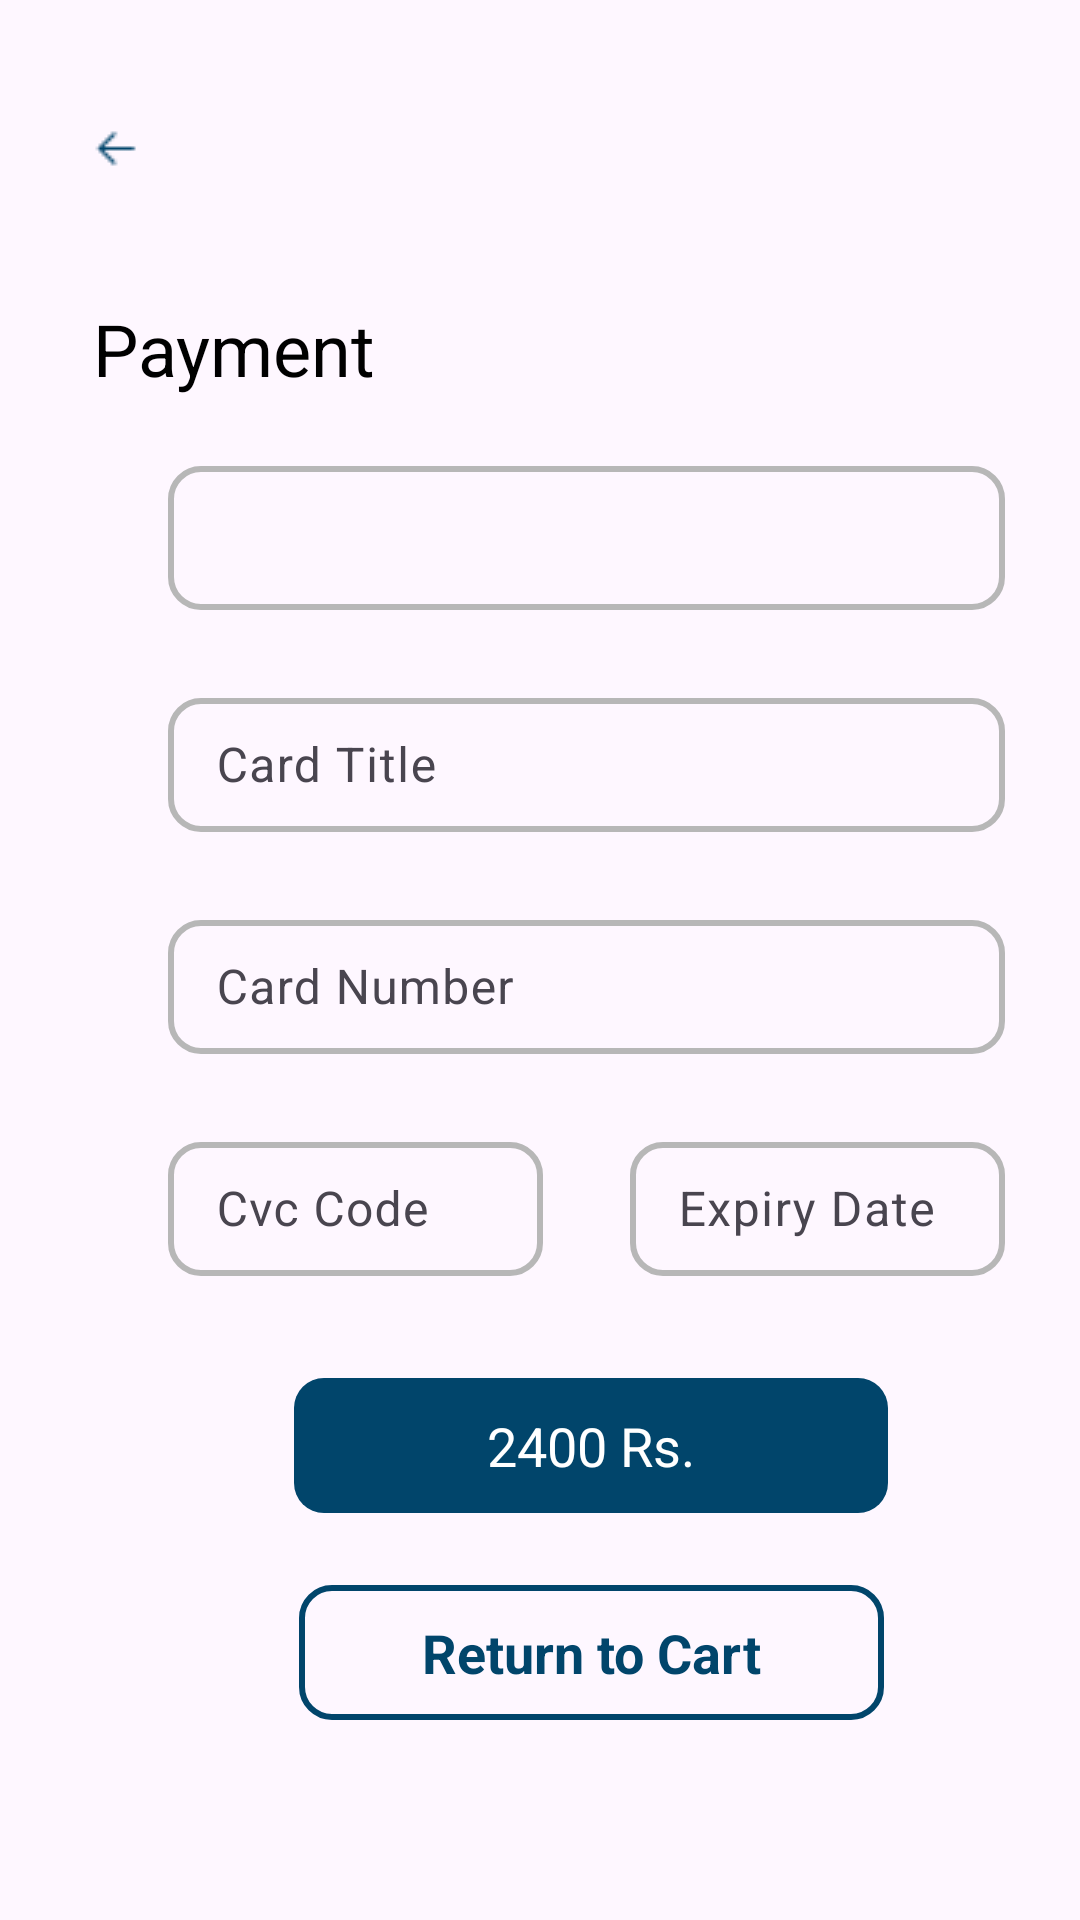

Screen size 1080*1920. Icon name, then its box in pixels as Rect(x1, y1, x2, y2):
back: Rect(96, 131, 136, 166)
